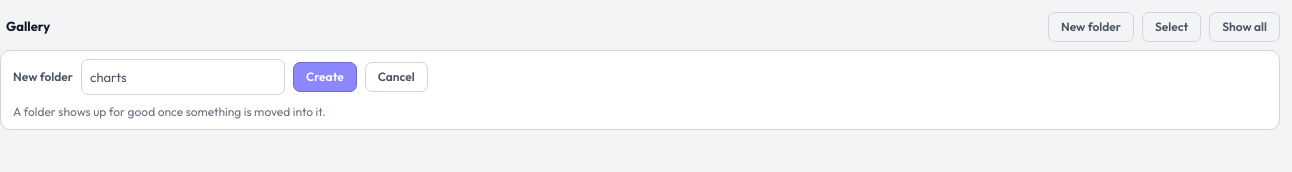
Test: GalleryFolderToolsComponent › new folder › can be cancelled
Click the button "Cancel" at (396, 77), box [365,62,428,92]
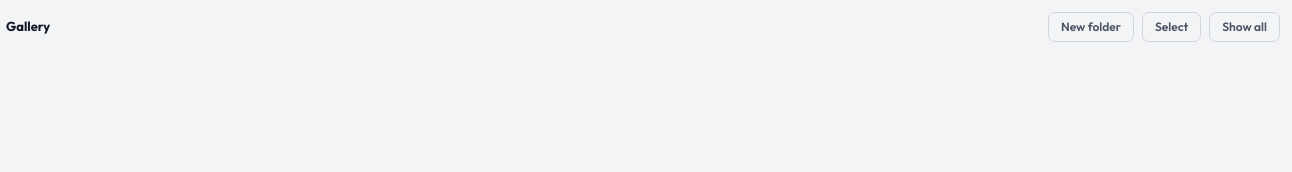
Check: the form is gone
